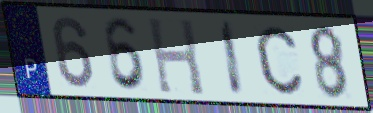6: (49, 14, 95, 90), (103, 15, 147, 94)
8: (308, 23, 352, 101)
C: (253, 23, 305, 97)
H: (145, 15, 207, 98)
I: (219, 18, 247, 99)
